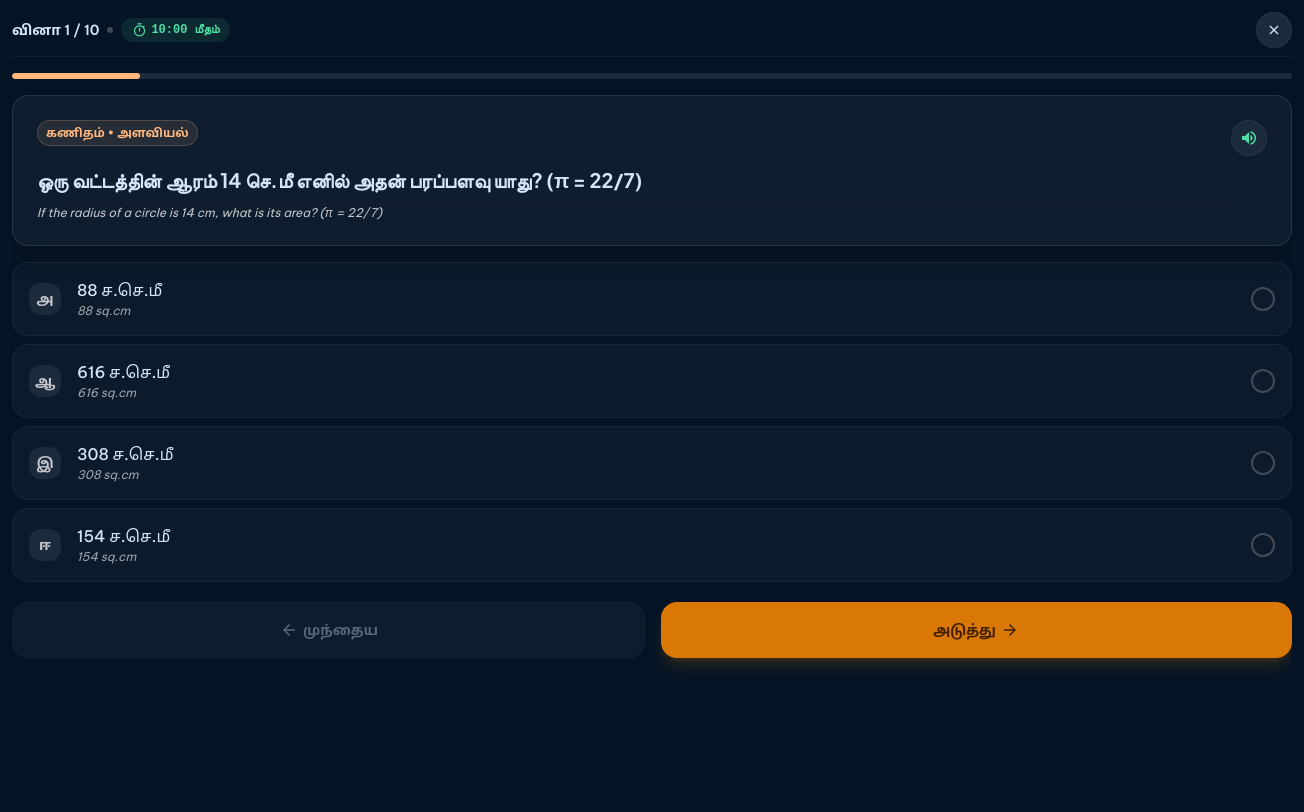
Milestone 3 Challenger: Daily Quiz & Home Empirical Stress Tests › 3. Next / Previous Navigation Bounds › enables Previous button when navigating to Question 2 and allows stepping back to Question 1
Check: the text "வினா 1 / 10" is shown, box [12,20,99,40]
Click the button "அடுத்து": point(976, 630) [661,602,1292,658]
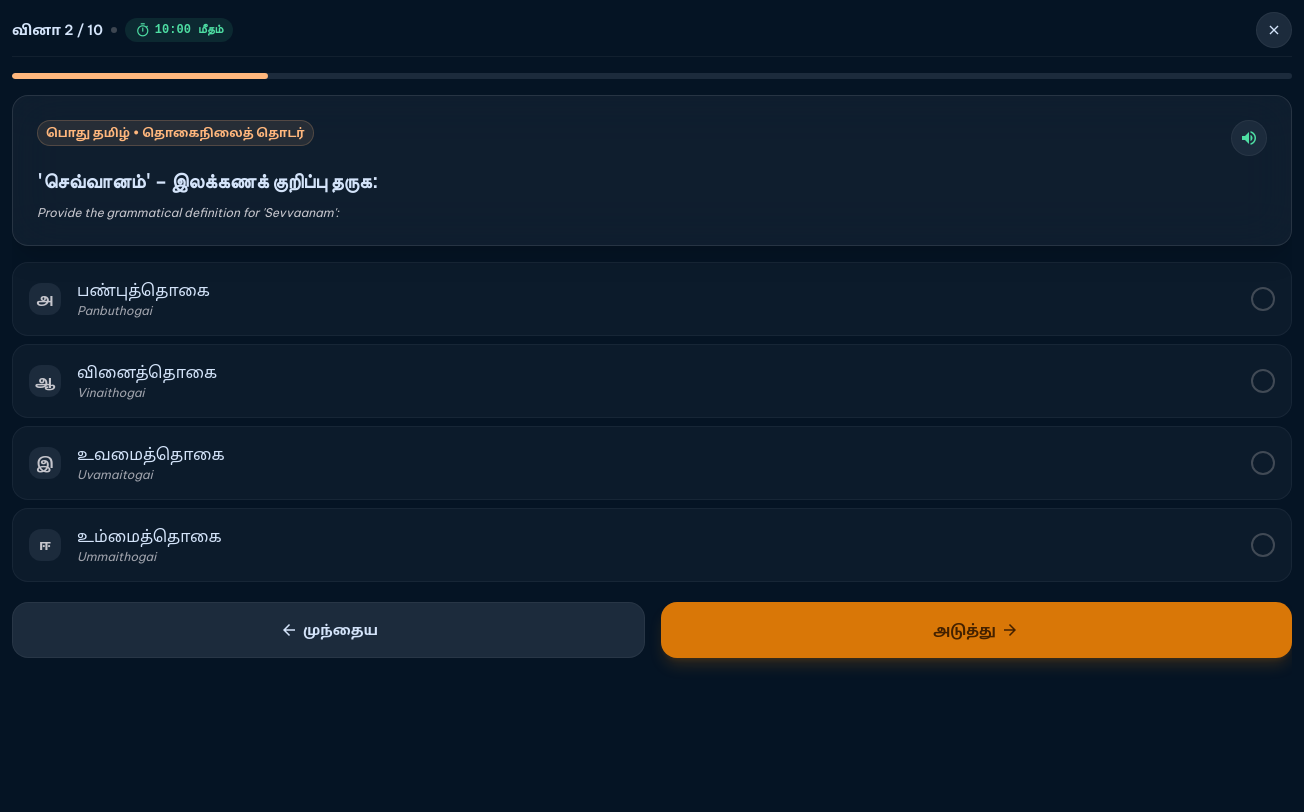
Check: the text "வினா 2 / 10" is shown, box [12,20,103,40]
Check: the button "முந்தைய" is enabled
Click Previous
Click the button "முந்தைய": point(328, 630) [12,602,645,658]
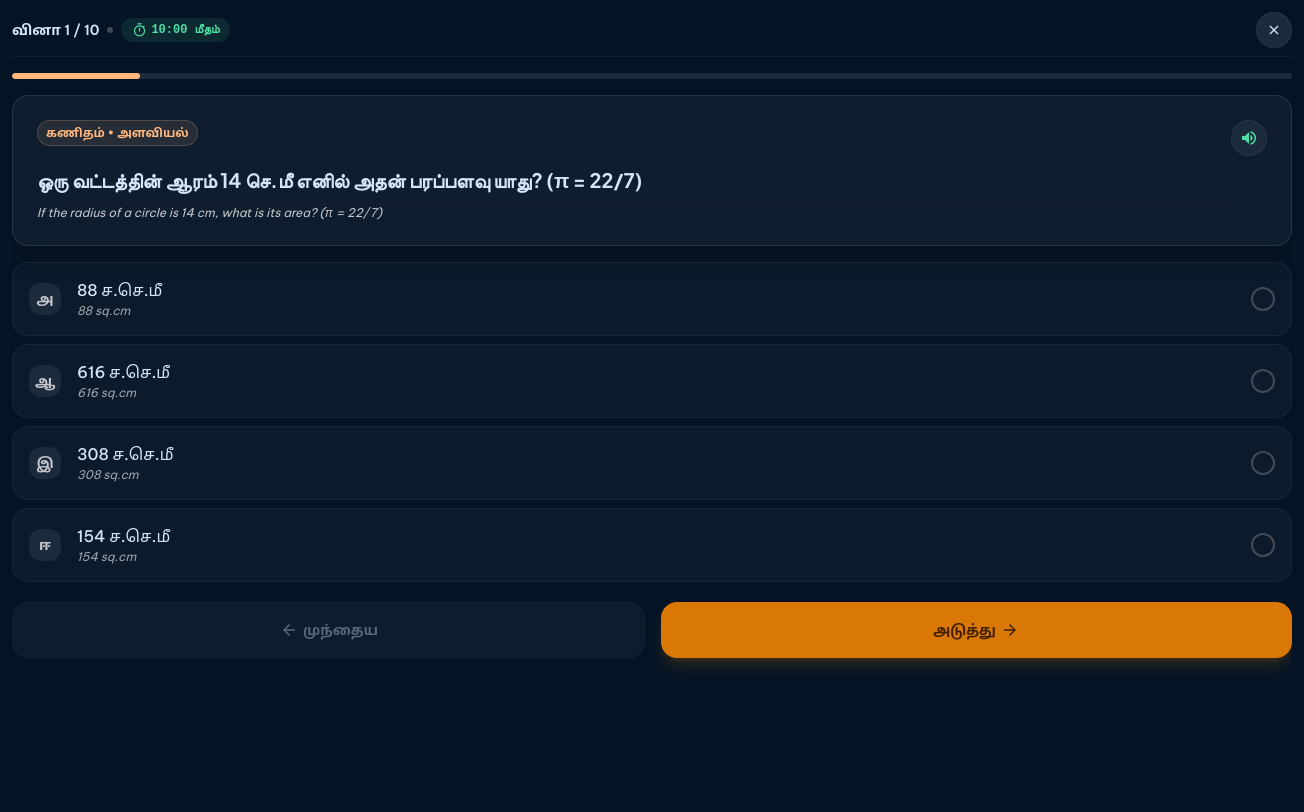
Check: the text "வினா 1 / 10" is shown, box [12,20,99,40]
Check: the button "முந்தைய" is disabled, box [12,602,645,658]
